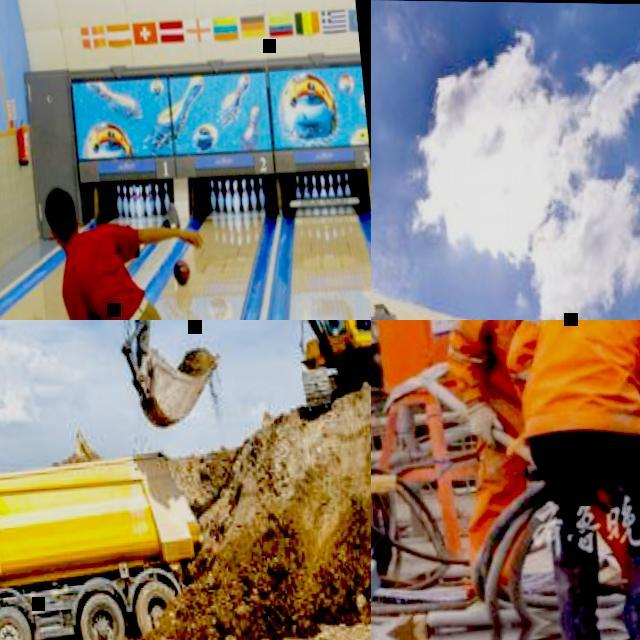vest: (511, 320, 640, 441), (458, 320, 547, 428)
